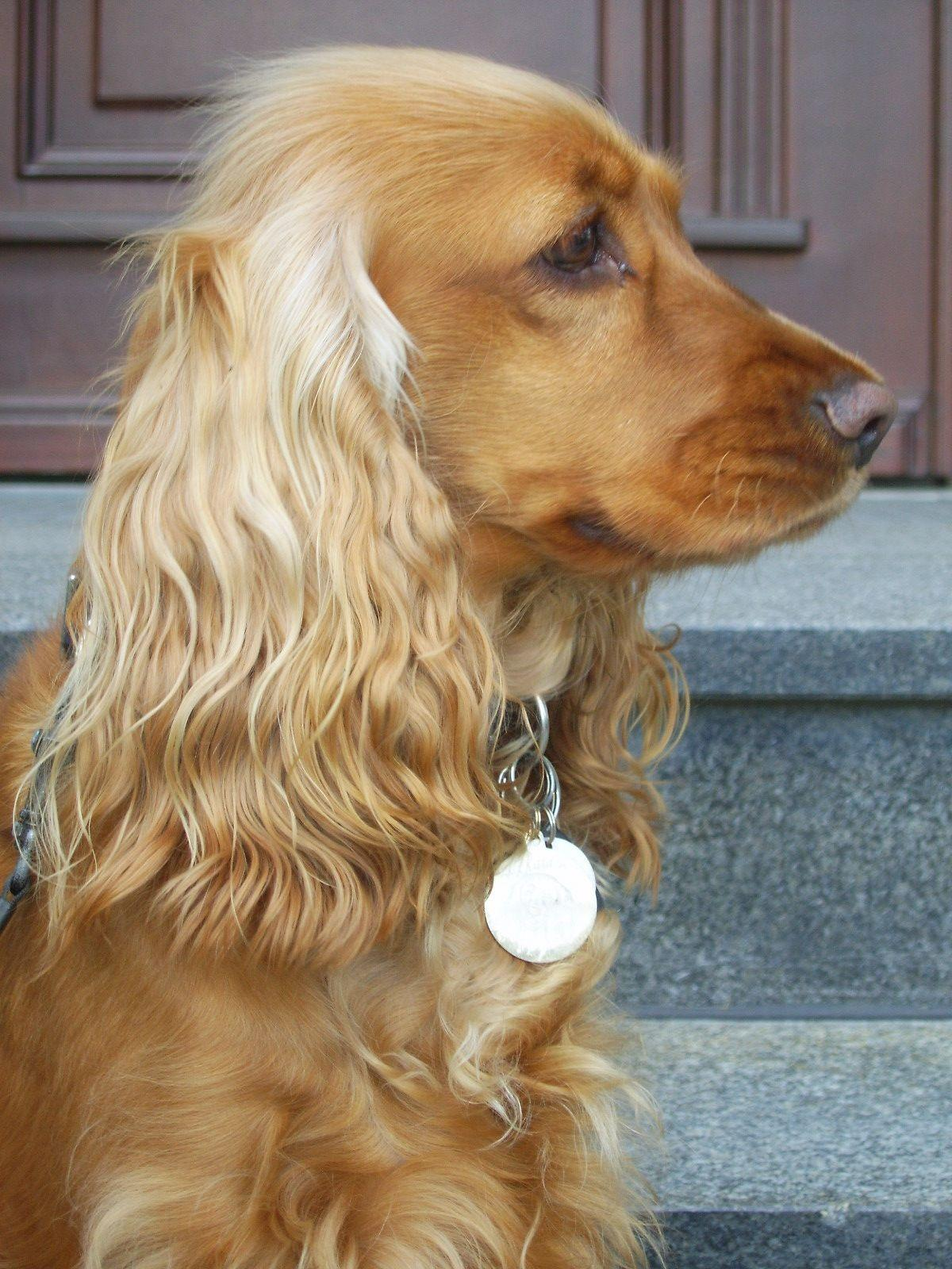adult_dog: (0, 38, 901, 1269)
